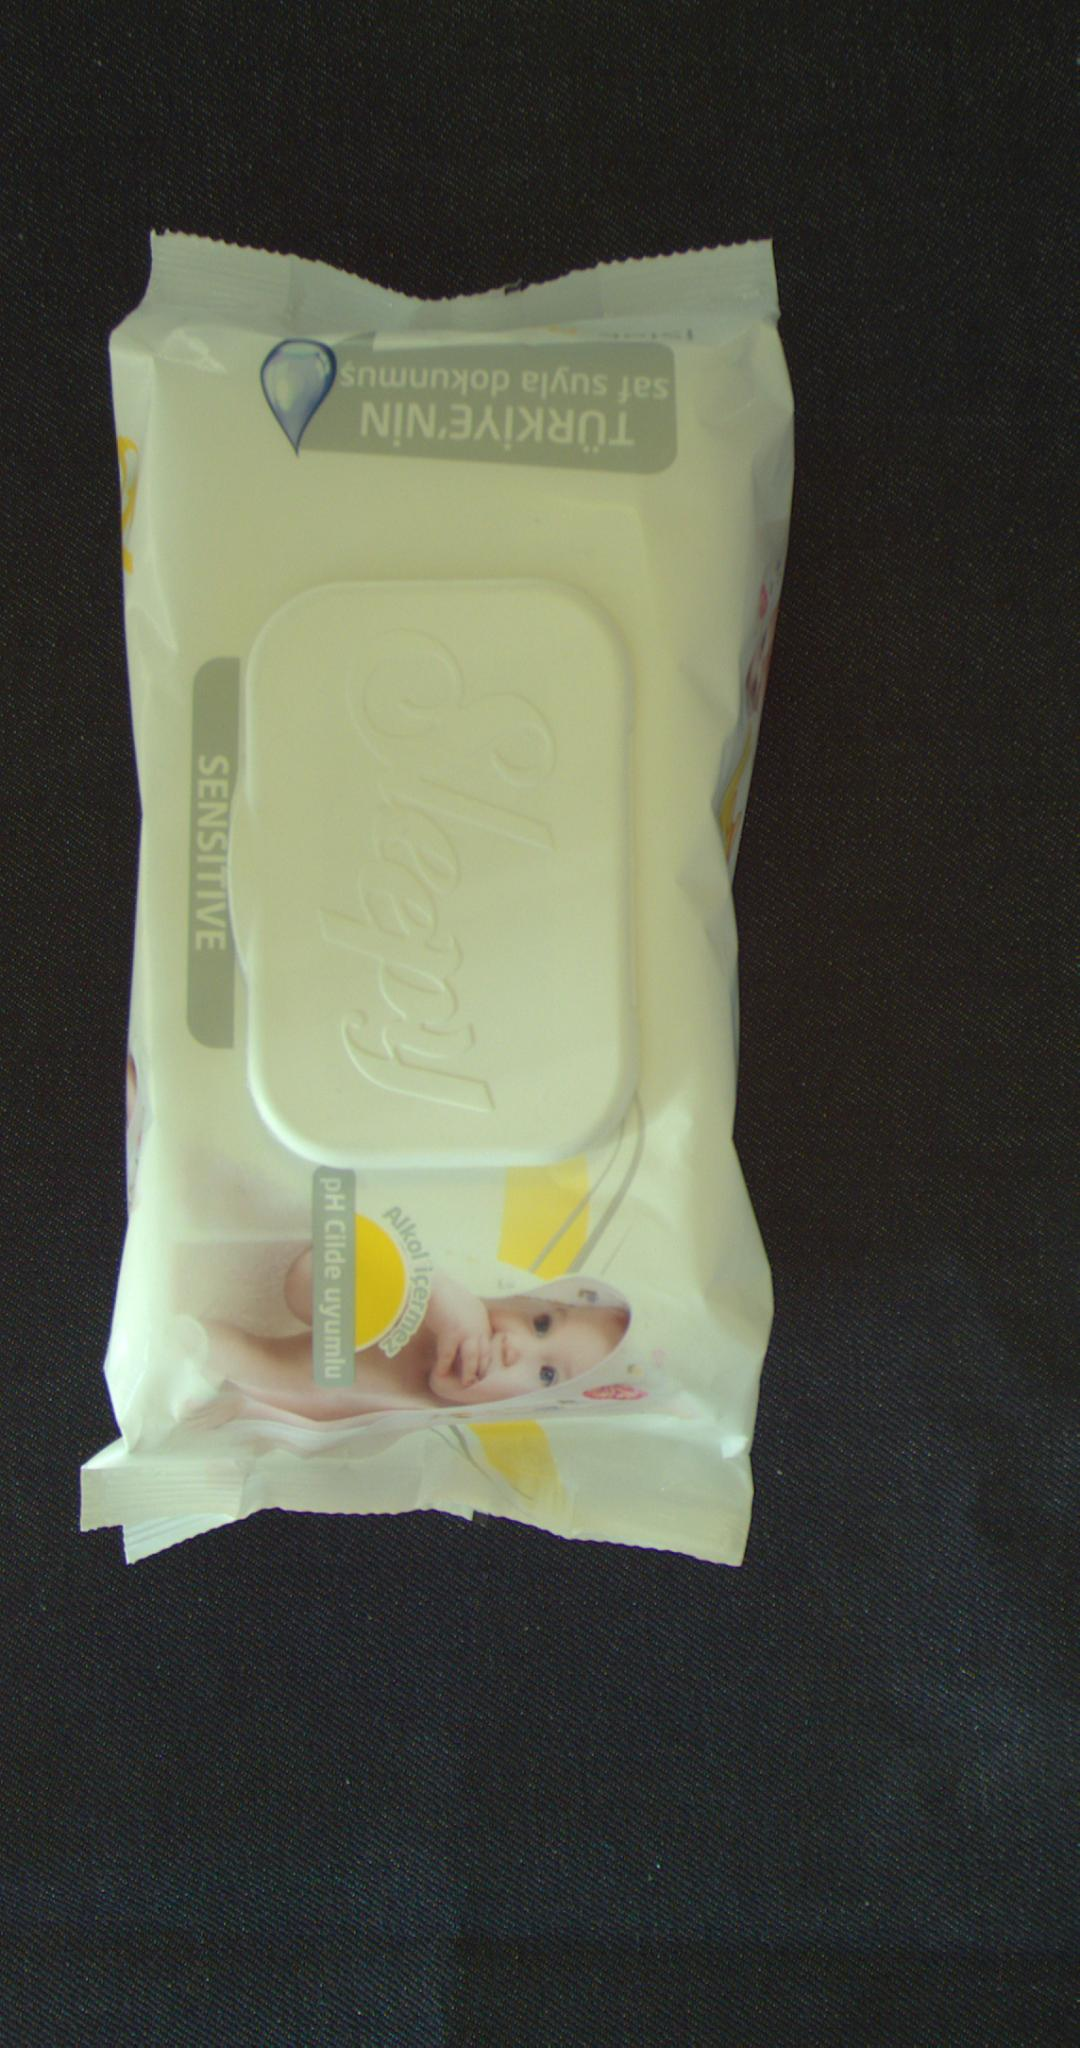kapak: (230, 578, 633, 1162)
